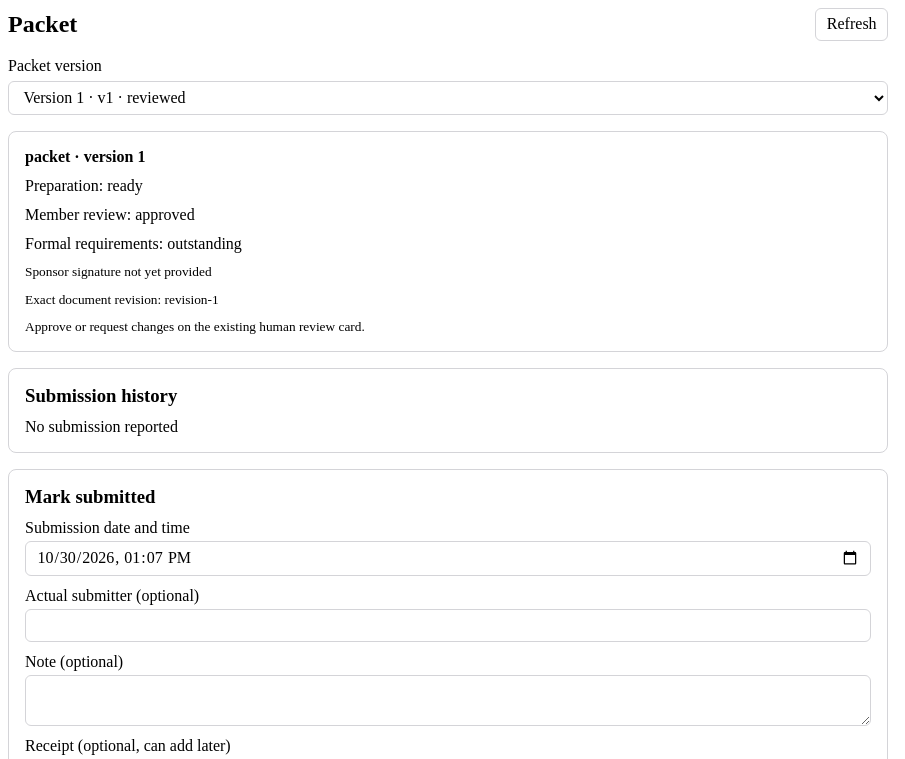
Test: refresh requires an explicit choice when the selected exact packet disappears
Click the button "Refresh" at (852, 24), box [816,8,888,41]
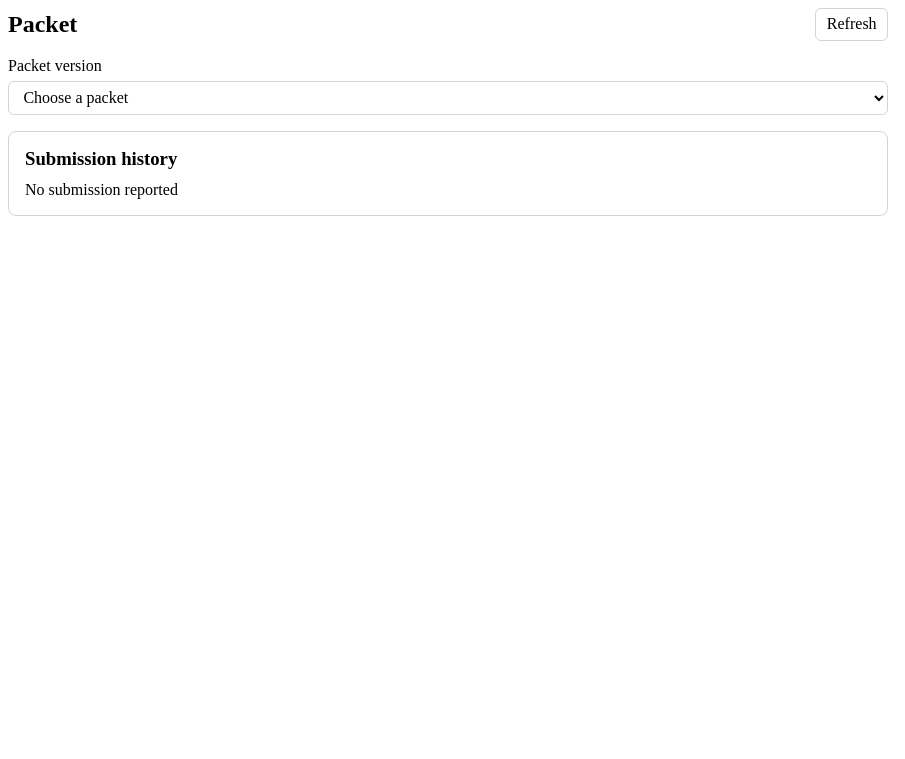
Check: the dropdown named "Packet version" shows "Choose a packet", box [8,81,888,115]
